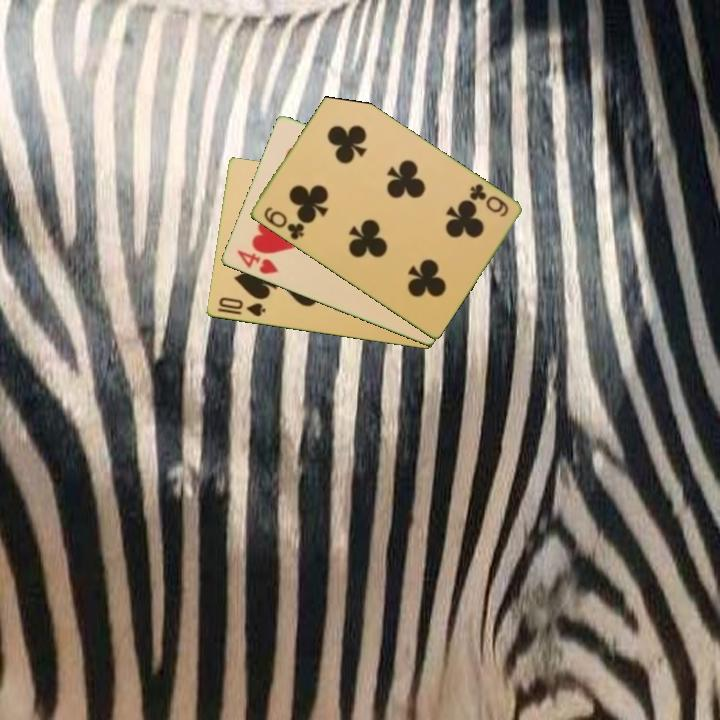10s: (214, 294, 268, 319)
4h: (233, 246, 281, 277)
6c: (260, 203, 307, 243), (465, 180, 511, 220)
